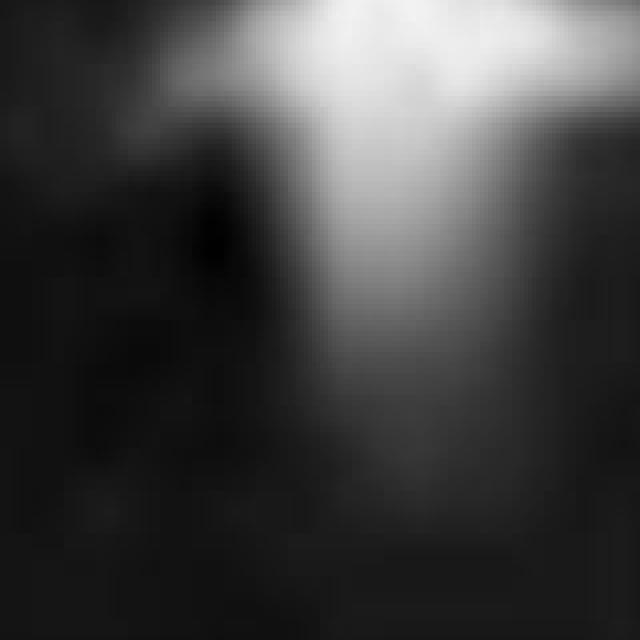person: (169, 1, 577, 465)
